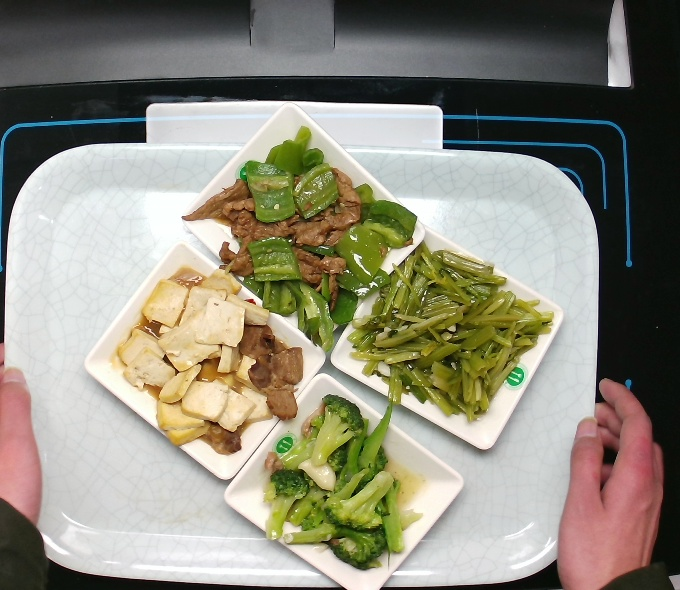wcq-DouFuRouPian: (116, 261, 305, 459)
wcq-QinCai: (343, 249, 535, 424)
wcq-QingJiaoChaoRou: (186, 130, 413, 321)
wcq-XiLanHua: (262, 391, 430, 570)
